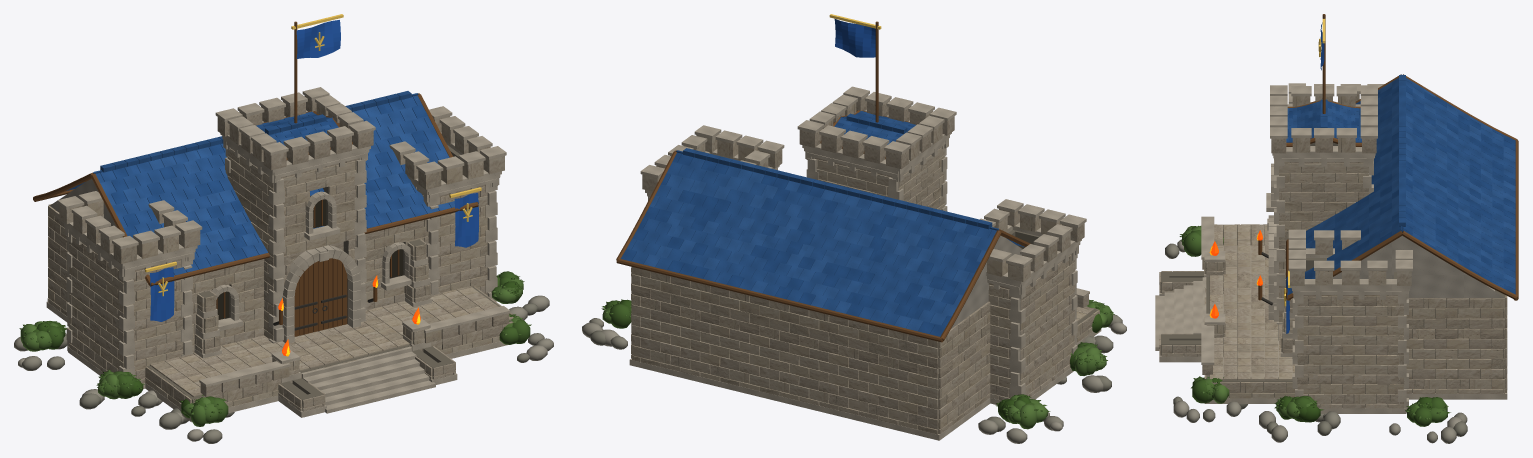
Rendered from BastionEnsemble70.glb.
3 renders of one model, left to right at view 1: azimuth 30°, elevation 25°; view 2: azimuth 150°, elevation 25°; view 3: azimuth 270°, elevation 25°, orthographic.
Visible parts, largest first — view 1: Bastion_Ensemble_Candidate, Bastion_Ensemble_Grounding; view 2: Bastion_Ensemble_Candidate, Bastion_Ensemble_Grounding; view 3: Bastion_Ensemble_Candidate, Bastion_Ensemble_Grounding.
Part boxes in pixels (x1,y1,x2,y2): Bastion_Ensemble_Candidate: (33,14,517,422); Bastion_Ensemble_Grounding: (14,271,553,443); Bastion_Ensemble_Candidate: (616,14,1101,440); Bastion_Ensemble_Grounding: (582,299,1126,443); Bastion_Ensemble_Candidate: (1155,14,1518,413); Bastion_Ensemble_Grounding: (1165,226,1467,443).
Size of the model in its own units: 25.7 by 17.22 by 17.64.
28 materials, 11 textured.
